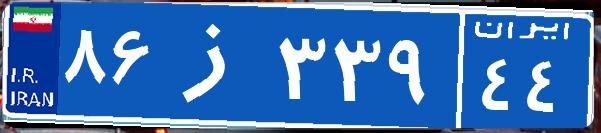3: (273, 28, 330, 110), (330, 28, 385, 110)
4: (475, 38, 525, 113), (525, 38, 570, 115)
6: (110, 28, 158, 105)
8: (57, 26, 110, 107)
9: (385, 28, 445, 110)
ز: (158, 15, 273, 115)
